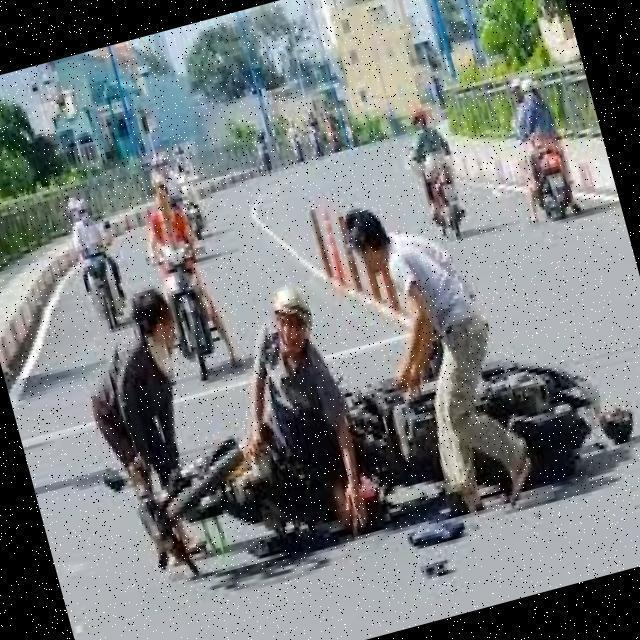accident: (39, 144, 640, 626)
